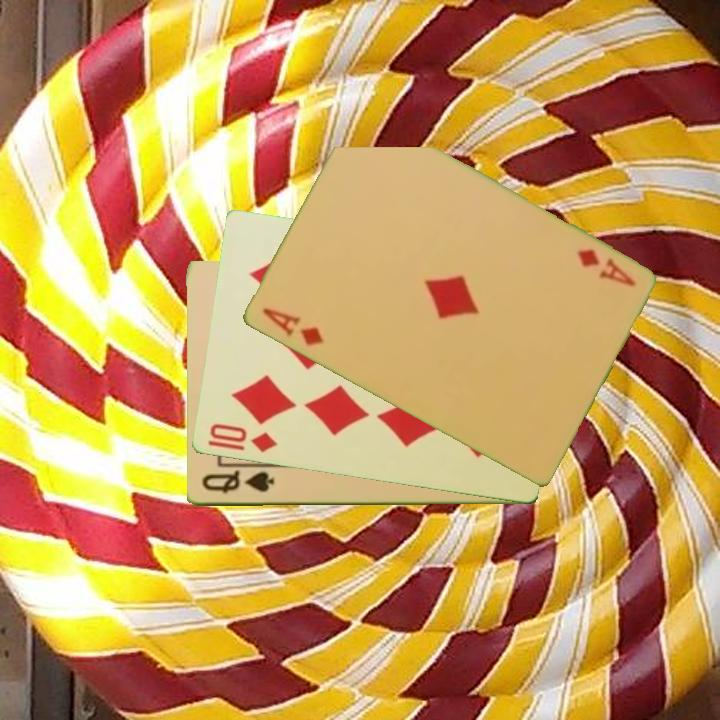10d: (204, 420, 279, 456)
Ad: (258, 304, 326, 349), (573, 245, 639, 290)
Qs: (198, 469, 277, 497)
